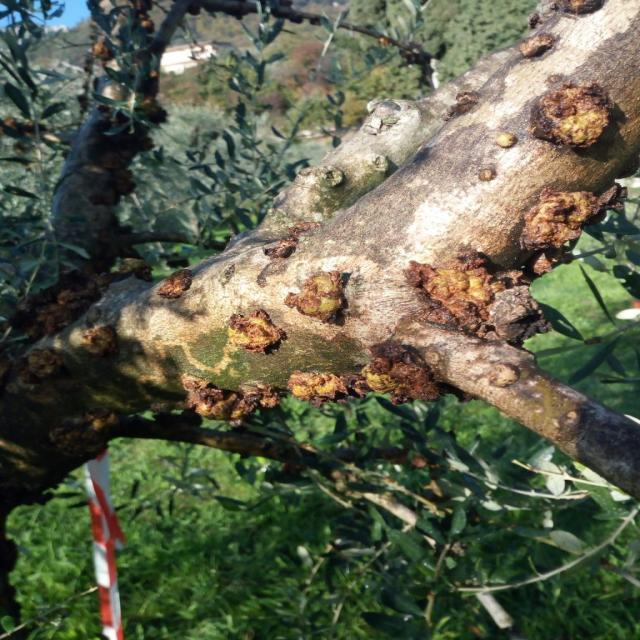Tuberculosis: (404, 252, 505, 338), (531, 82, 619, 150), (519, 189, 609, 252), (361, 341, 447, 404), (182, 378, 284, 422), (50, 410, 120, 464), (285, 270, 344, 324), (288, 370, 360, 408), (228, 308, 285, 354), (264, 223, 312, 260), (82, 326, 116, 358), (155, 268, 189, 298), (494, 134, 516, 148), (478, 170, 496, 182)
